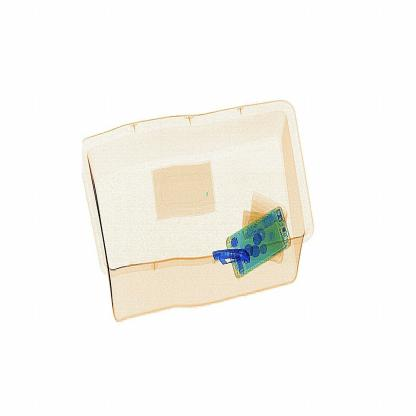knife: (206, 238, 256, 272)
